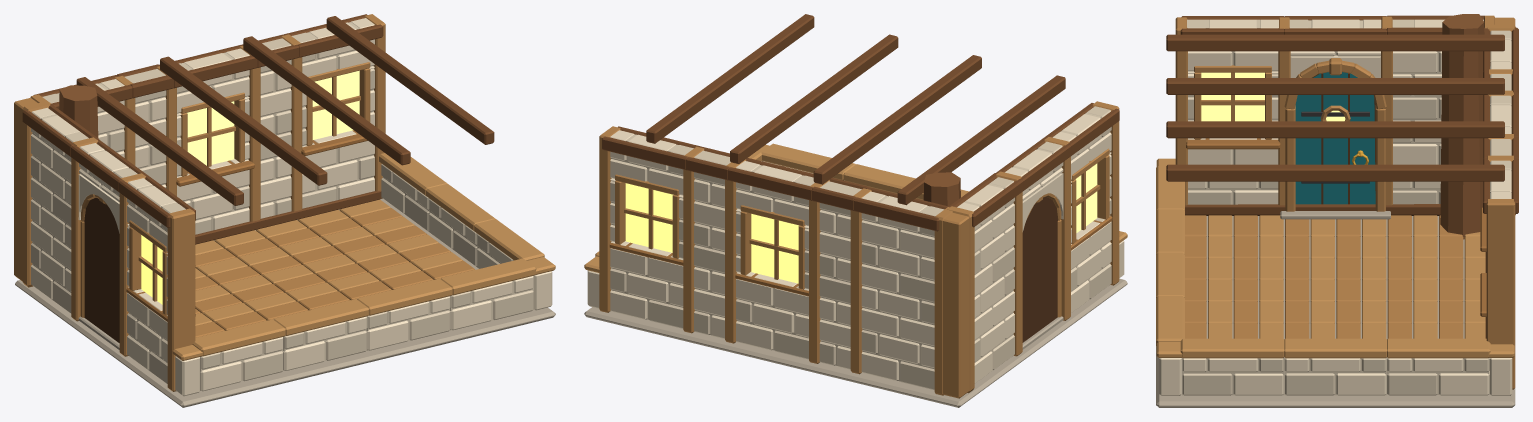
The model's file is treehouse_t2_interior.glb.
3 views of the same model, side by side, from view 1: azimuth 30°, elevation 25°; view 2: azimuth 150°, elevation 25°; view 3: azimuth 270°, elevation 25° (orthographic). The views are drawn at different scales.
Visible parts, largest first — view 1: treehouse_t2_interior; view 2: treehouse_t2_interior; view 3: treehouse_t2_interior, part_door_leaf.
Part boxes in pixels (bbox=[...]): treehouse_t2_interior: bbox=[14, 14, 555, 407]; treehouse_t2_interior: bbox=[584, 14, 1127, 407]; treehouse_t2_interior: bbox=[1156, 14, 1518, 407]; part_door_leaf: bbox=[1295, 72, 1375, 204].
Bounding box in the file's own units: 4.54 × 2.32 × 3.54.
